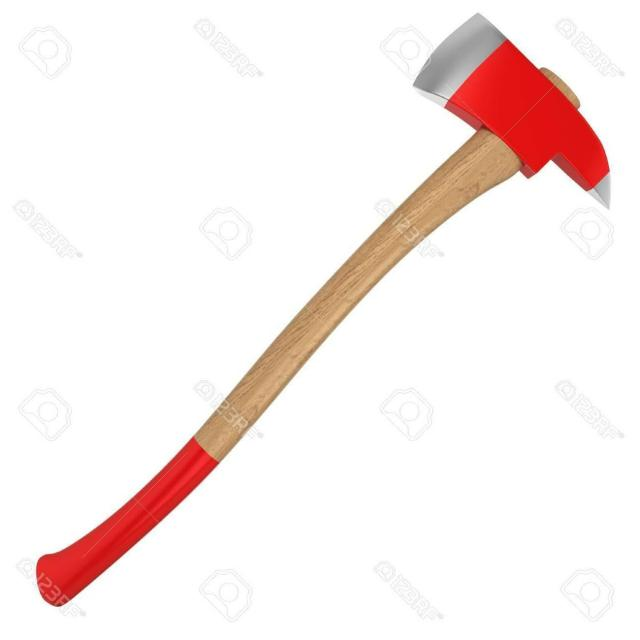Kapak: (21, 23, 622, 607)
